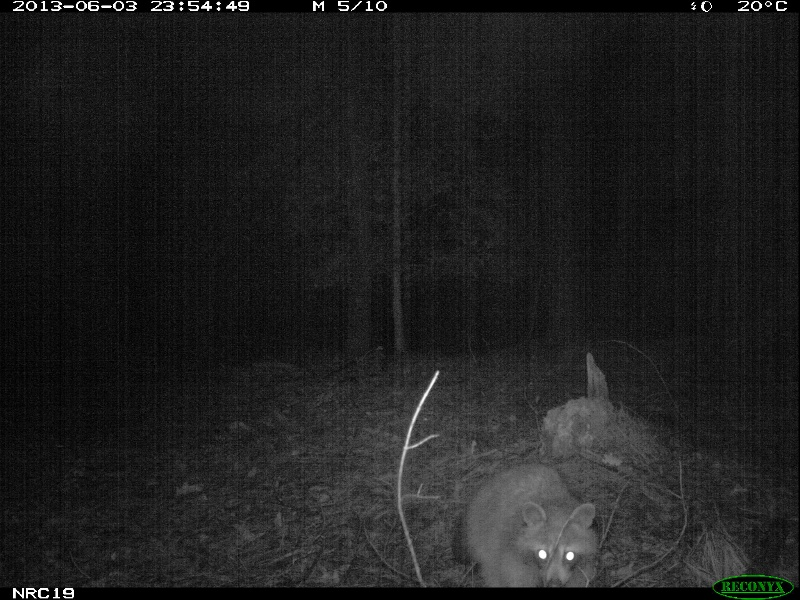raccoon: (462, 463, 606, 584)
